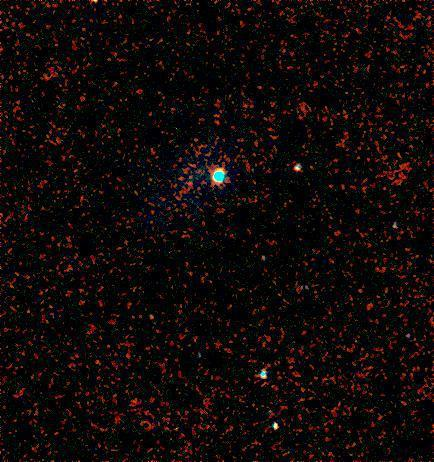star: (81, 0, 111, 22)
